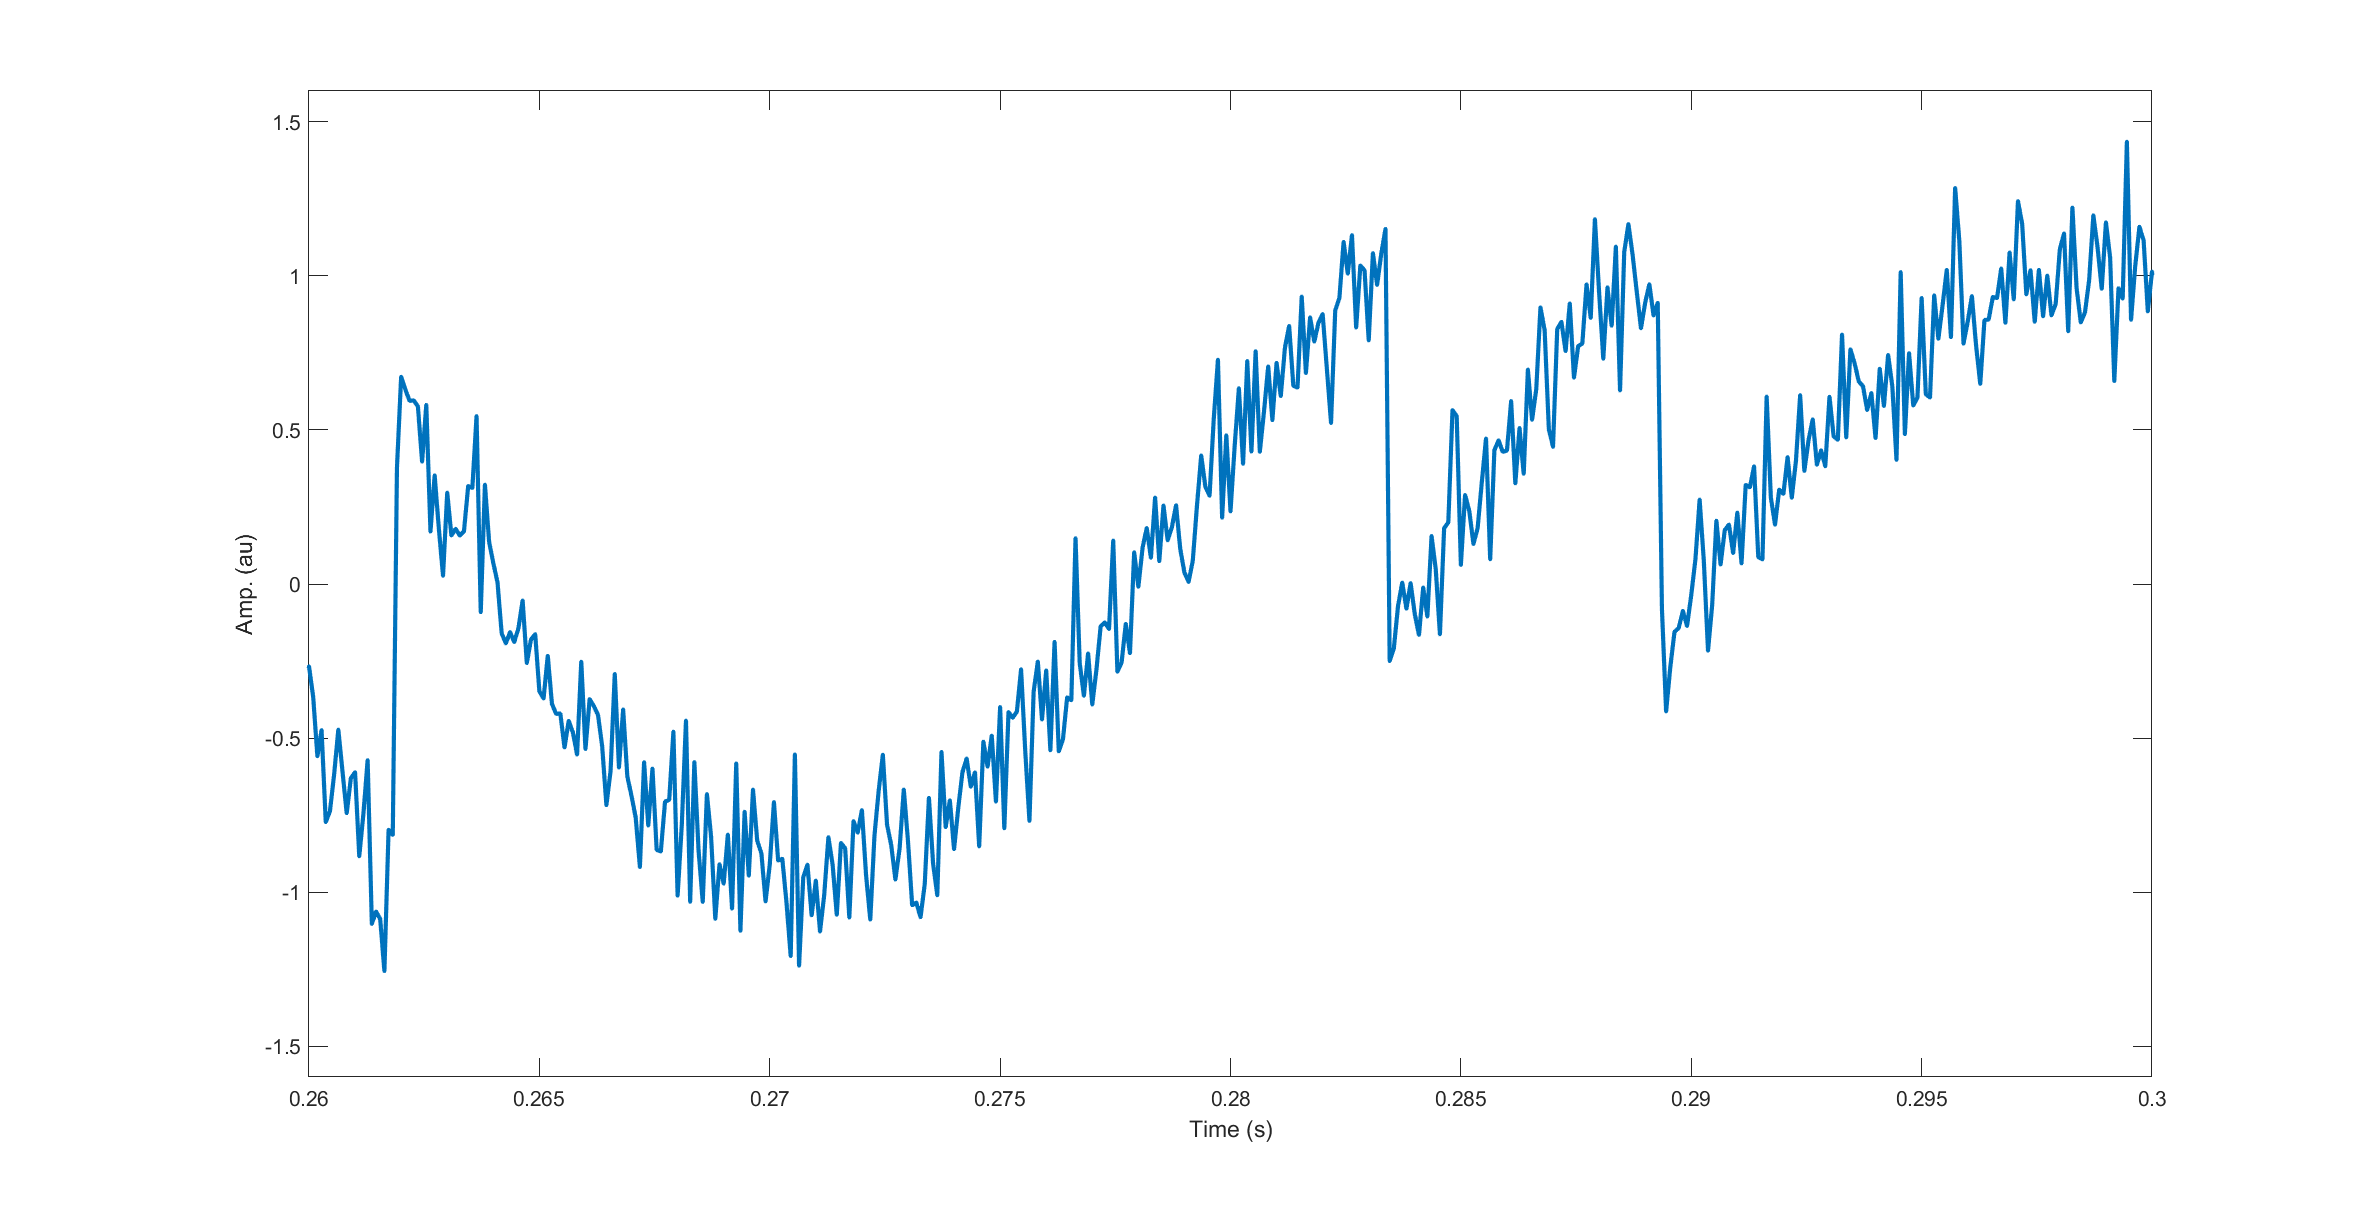negative_fringe: (384, 357, 586, 900)
positive_fringe: (1426, 205, 1674, 718), (1190, 205, 1395, 657)
